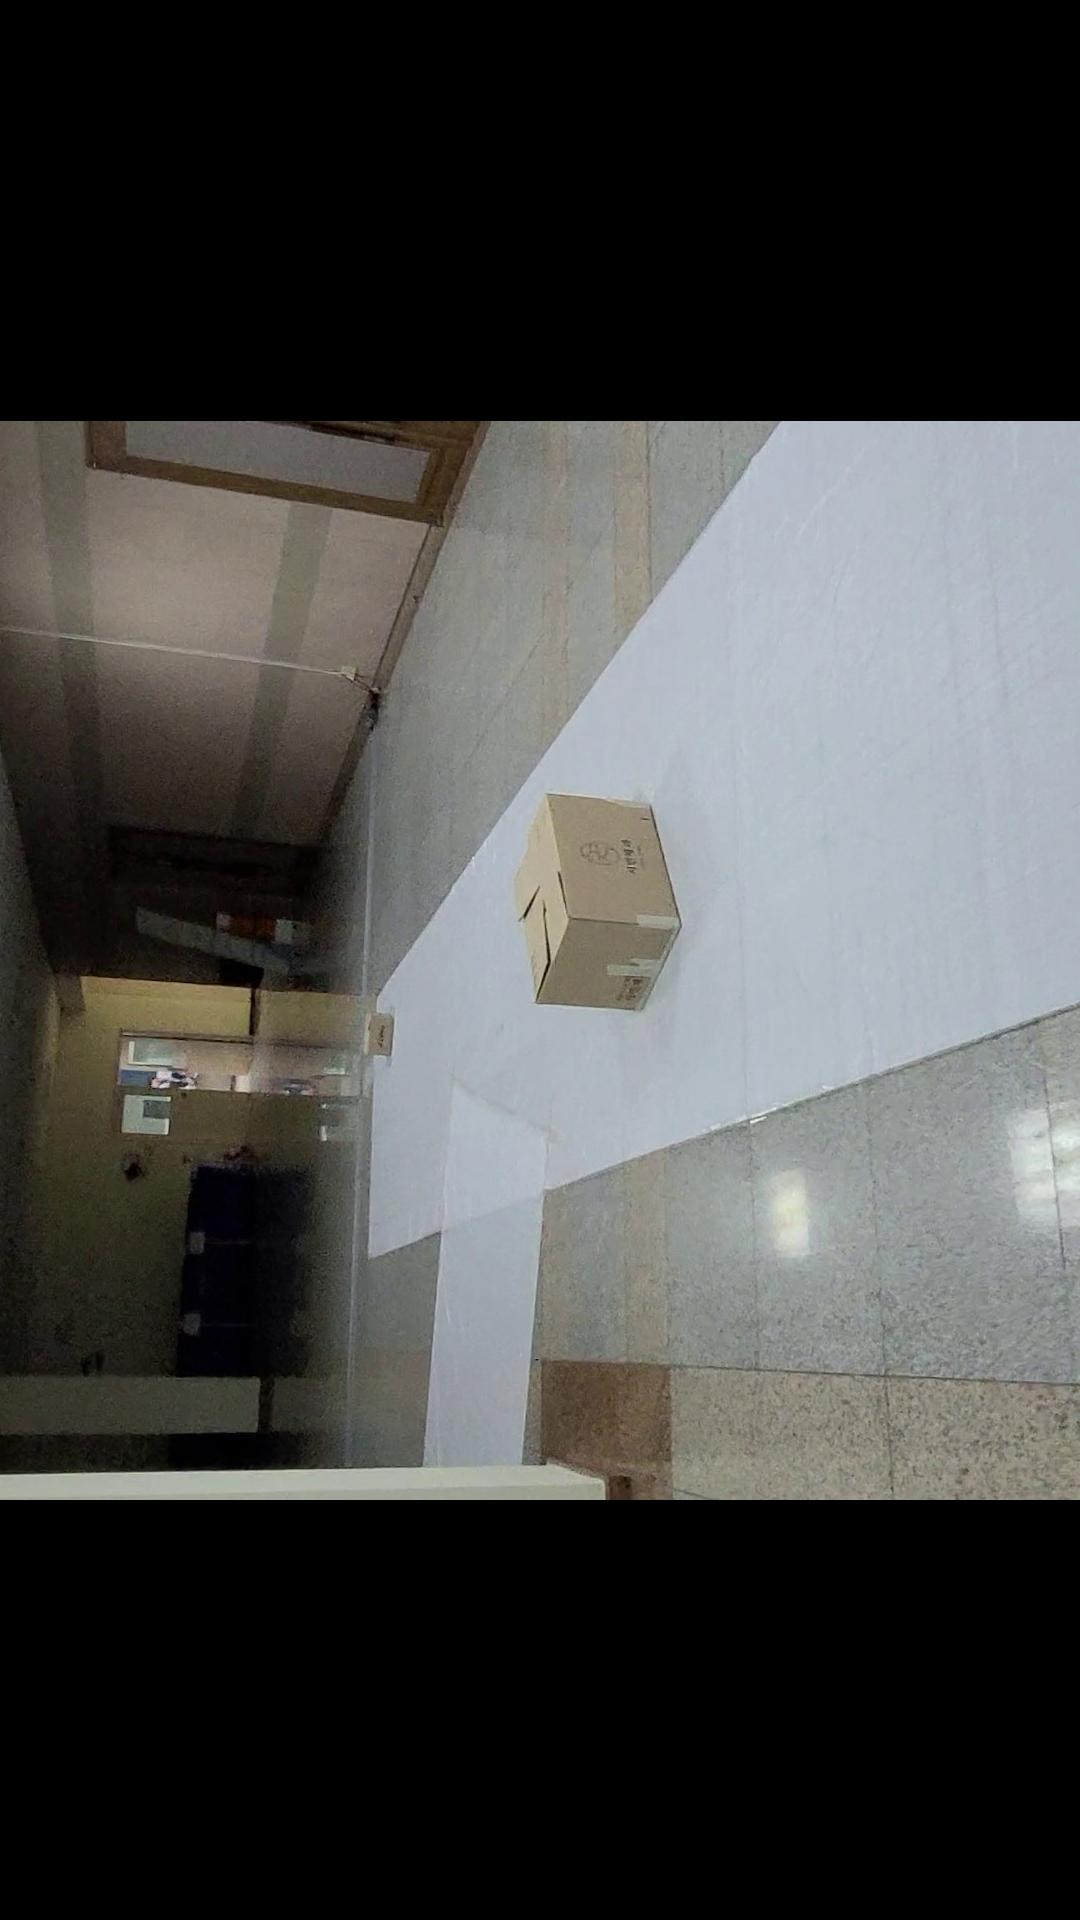Box: (491, 742, 731, 1039), (335, 986, 407, 1095)
